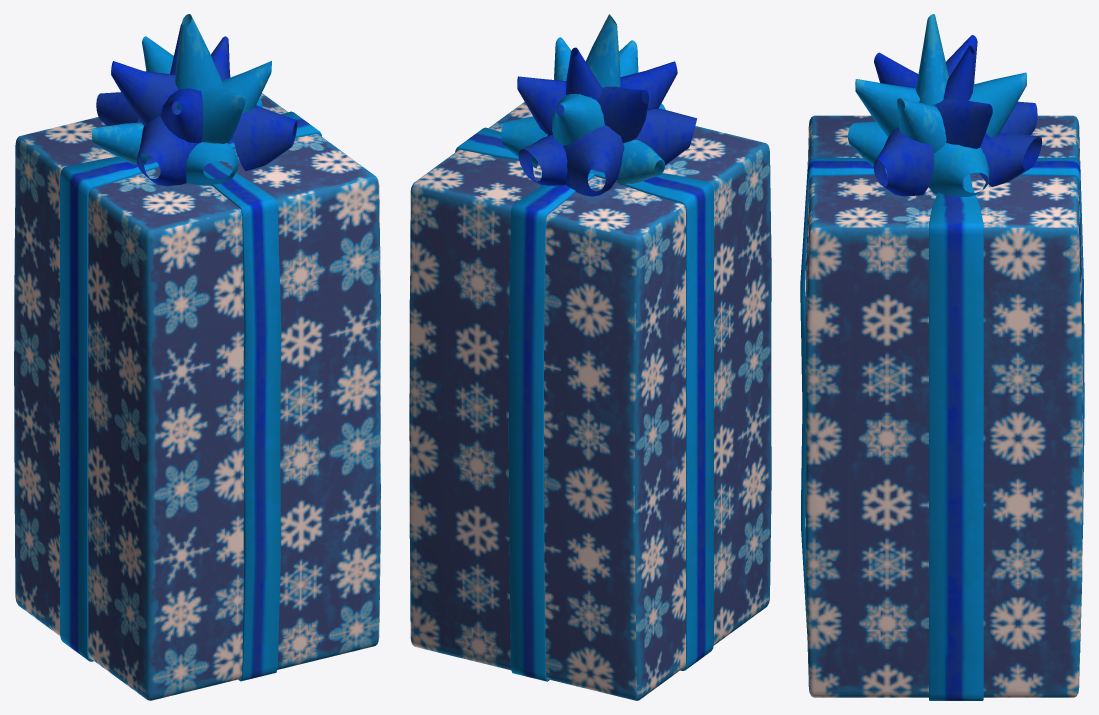
Rendered from Gift0202.gltf.
3 renders of one model, left to right at view 1: azimuth 30°, elevation 25°; view 2: azimuth 150°, elevation 25°; view 3: azimuth 270°, elevation 25°, orthographic.
Visible parts, largest first — view 1: Present; view 2: Present; view 3: Present.
Boxes of the visible parts, x1,y1,x2,y2 form: Present: [14, 14, 380, 700]; Present: [409, 14, 771, 700]; Present: [800, 14, 1084, 700].
Bounding box in the file's own units: 0.0676 × 0.1705 × 0.0703.
1 material, 1 textured.
